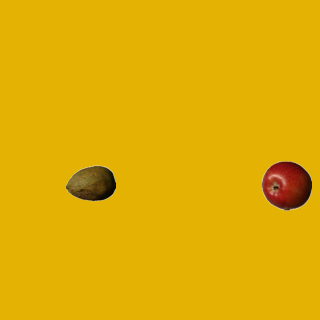Apple Braeburn: (261, 160, 311, 210)
Papaya: (65, 158, 115, 208)
